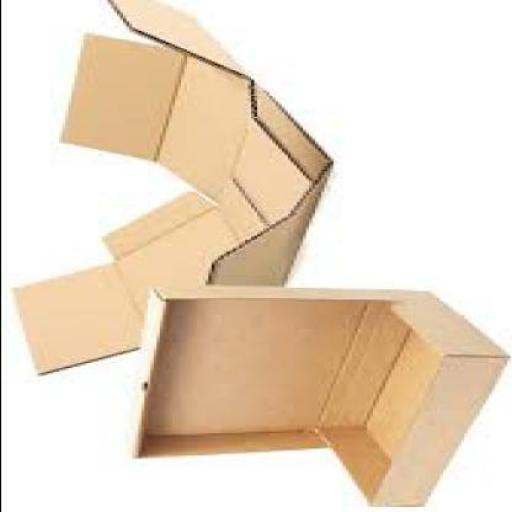cardboard: (8, 0, 330, 374), (125, 284, 509, 505)
